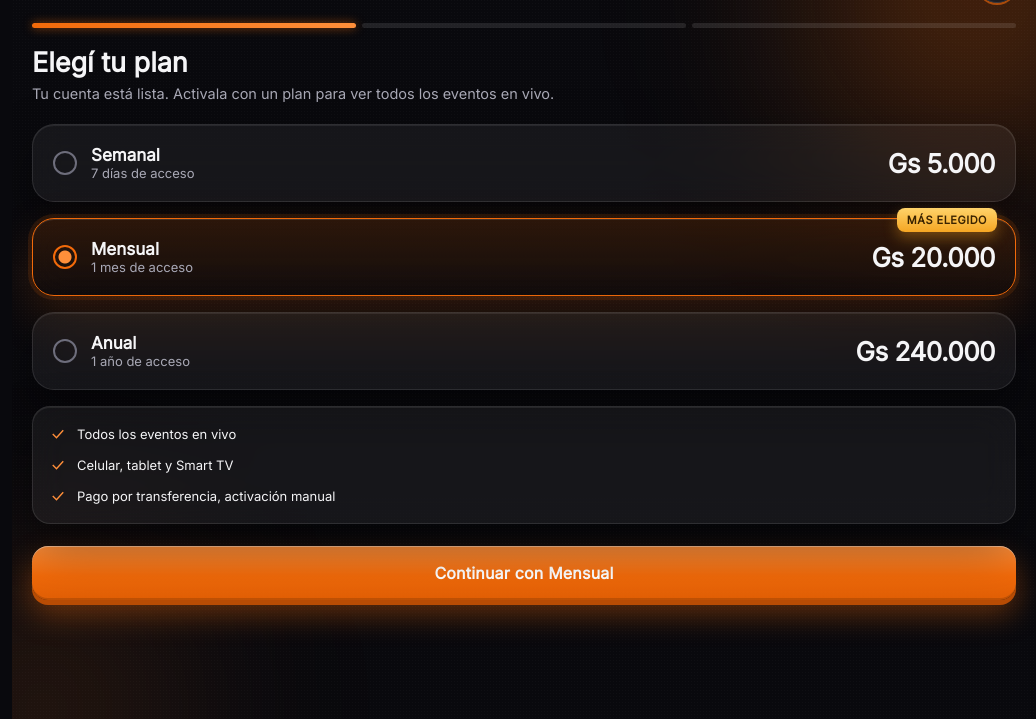
cuenta suspendida al pedir plan va a suspendida
This screenshot has width=1036, height=719.
Step 1. Click the button "Continuar con Mensual" → (524, 573), box [32,546,1016,600]
(page scrolled)
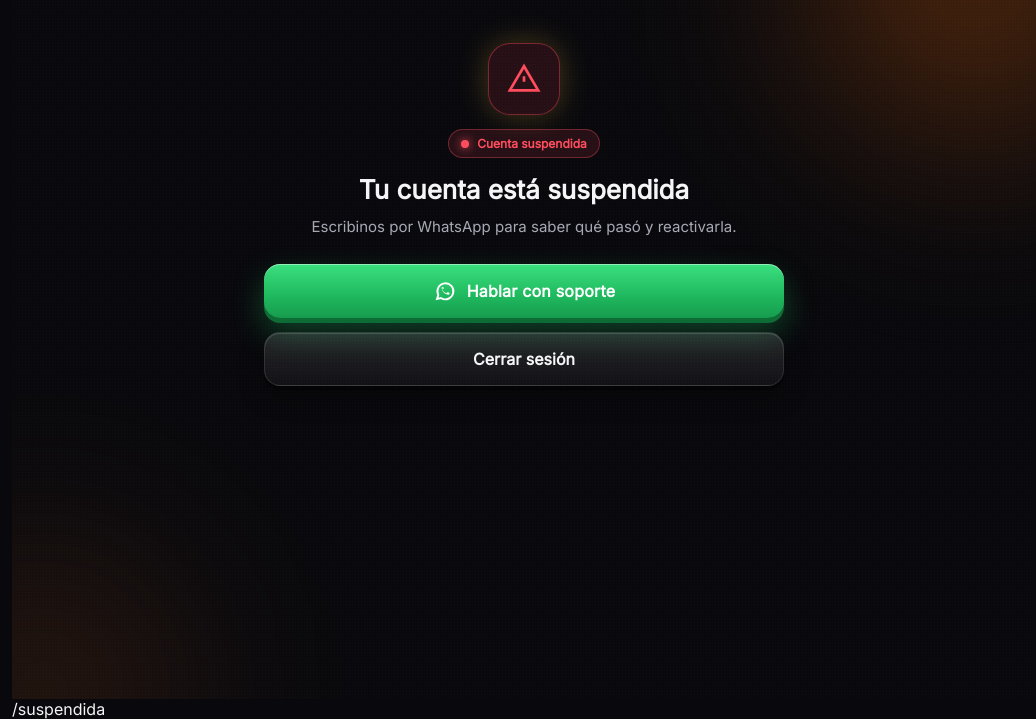
Now the text with test id "loc" reads "/suspendida", box [12,699,105,718]
